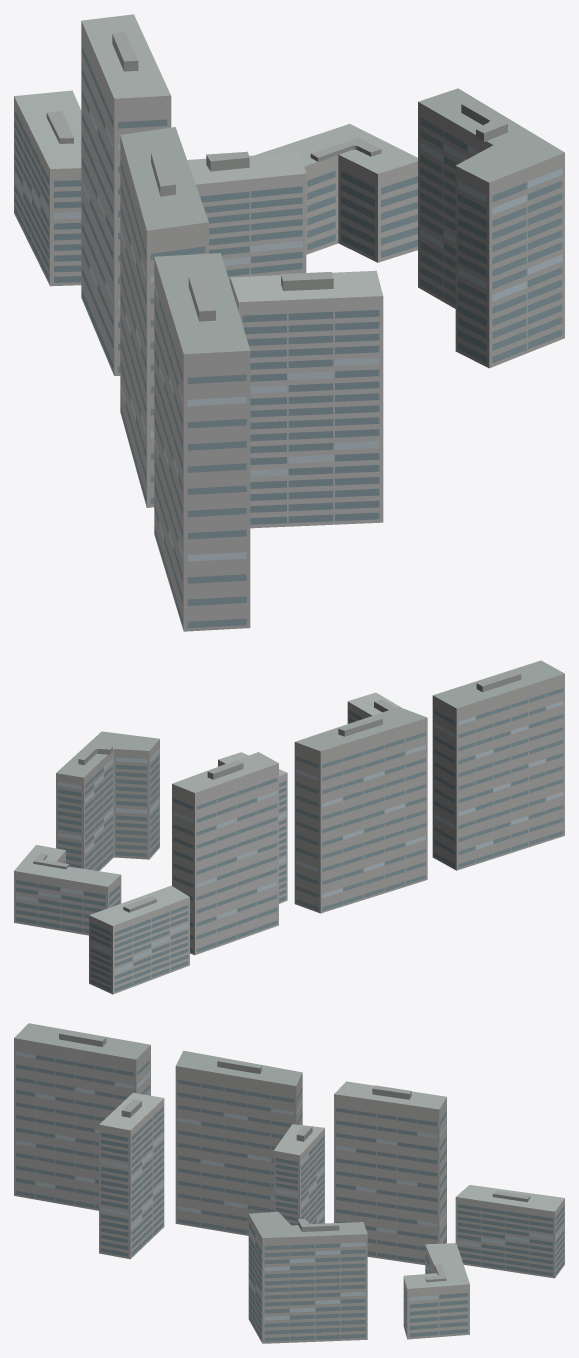
File: apt-a13082702.glb
3 views of the same model, one above another, from view 1: azimuth 30°, elevation 25°; view 2: azimuth 150°, elevation 25°; view 3: azimuth 270°, elevation 25° (orthographic). The views are drawn at different scales.
Parts seen in each view (by area): view 1: apt-a13082702; view 2: apt-a13082702; view 3: apt-a13082702.
Boxes of the visible parts, x1,y1,x2,y2 form: apt-a13082702: (14, 14, 564, 631); apt-a13082702: (14, 660, 564, 994); apt-a13082702: (14, 1023, 564, 1343).
Size of the model in its own units: 145 by 68 by 208.
